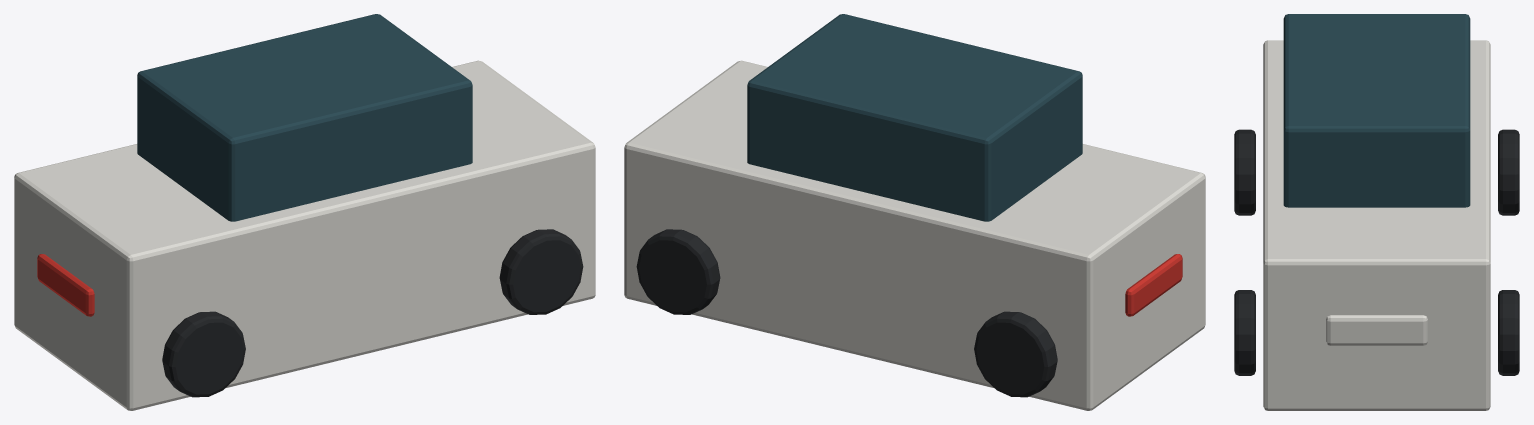
Rendered from Vehicle_018.glb.
3 renders of one model, left to right at view 1: azimuth 30°, elevation 25°; view 2: azimuth 150°, elevation 25°; view 3: azimuth 270°, elevation 25°, orthographic. The views are drawn at different scales.
Parts seen in each view (by area): view 1: Vehicle_018; view 2: Vehicle_018; view 3: Vehicle_018.
Boxes of the visible parts, x1,y1,x2,y2 form: Vehicle_018: [14, 14, 595, 410]; Vehicle_018: [624, 14, 1205, 410]; Vehicle_018: [1234, 14, 1519, 410].
Bounding box in the file's own units: 4.57 × 2.14 × 2.38.
